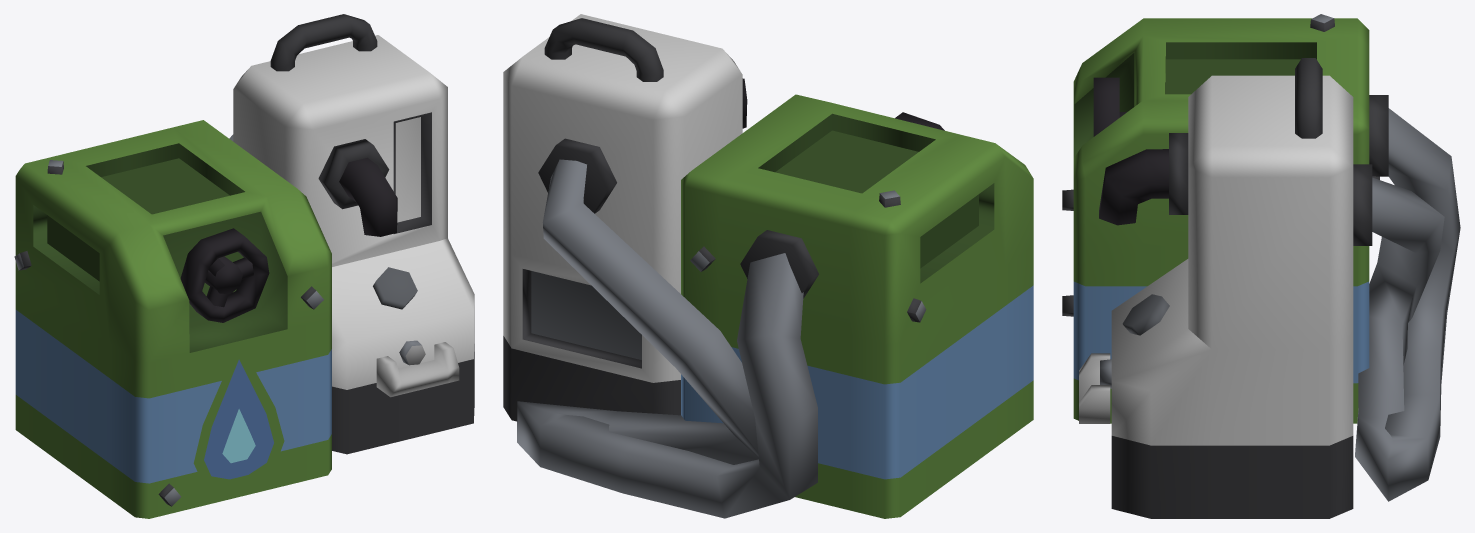
The model's file is WaterTankHydro.glb.
3 renders of one model, left to right at view 1: azimuth 30°, elevation 25°; view 2: azimuth 150°, elevation 25°; view 3: azimuth 270°, elevation 25°, orthographic. The views are drawn at different scales.
Visible parts, largest first — view 1: WaterTankHydro; view 2: WaterTankHydro; view 3: WaterTankHydro.
Part boxes in pixels (left/top/right/bottom): WaterTankHydro: left=14, top=14, right=474, bottom=518; WaterTankHydro: left=503, top=14, right=1033, bottom=518; WaterTankHydro: left=1062, top=14, right=1460, bottom=518.
Size of the model in its own units: 0.792 by 0.7241 by 0.6382.
Materials: 2 (1 with a texture image).
